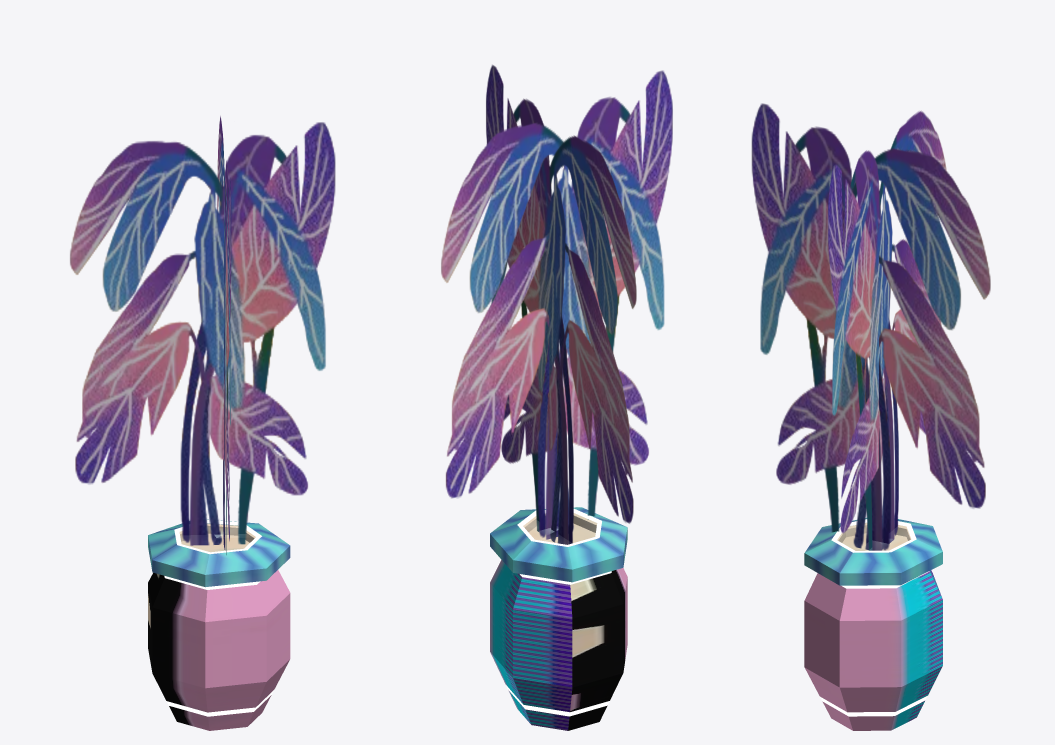
Rendered from pm-pot-vapor-05.glb.
3 views of the same model, side by side, from view 1: azimuth 30°, elevation 25°; view 2: azimuth 150°, elevation 25°; view 3: azimuth 270°, elevation 25° (orthographic). The views are drawn at different scales.
Visible parts, largest first — view 1: Pot_Vapor_05; view 2: Pot_Vapor_05; view 3: Pot_Vapor_05.
Boxes of the visible parts, left/top/right/bottom form: Pot_Vapor_05: left=70, top=116, right=335, bottom=730; Pot_Vapor_05: left=441, top=64, right=672, bottom=730; Pot_Vapor_05: left=751, top=103, right=990, bottom=730.
Bounding box in the file's own units: 1.36 × 2.98 × 1.36.
4 materials, 4 textured.
